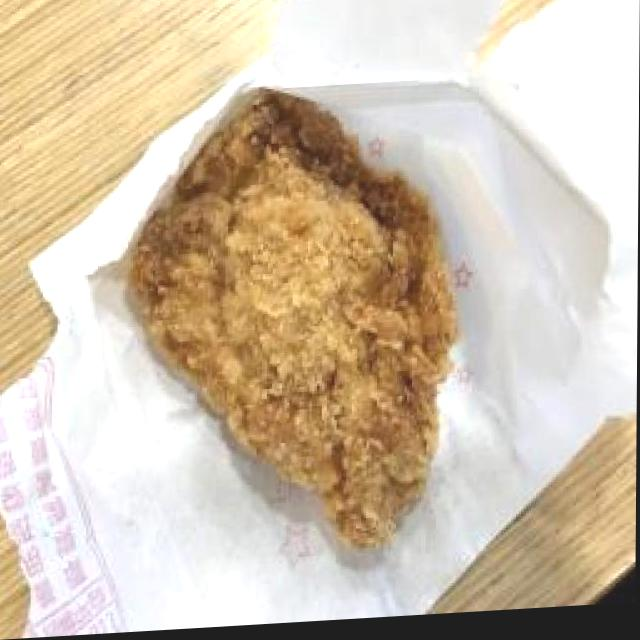fried_chicken: (127, 83, 462, 564)
